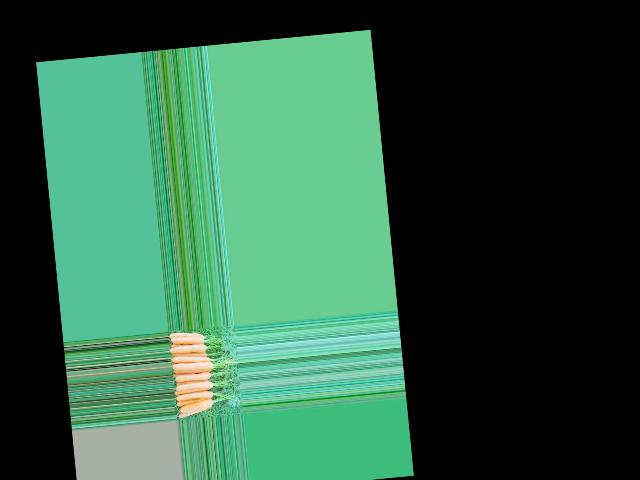carrot: (167, 331, 203, 340)
